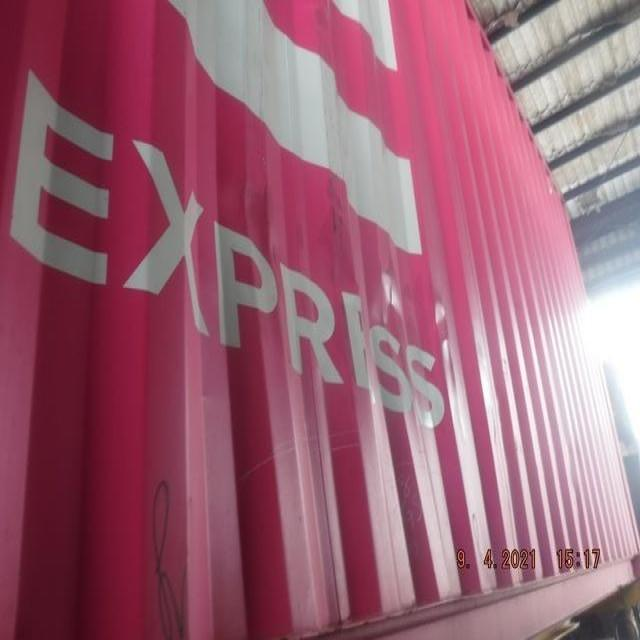dent: (197, 118, 475, 444)
